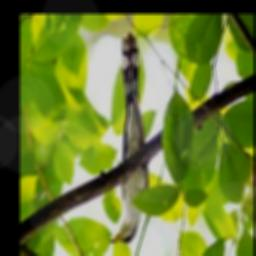Cuckoo: (109, 34, 148, 244)
